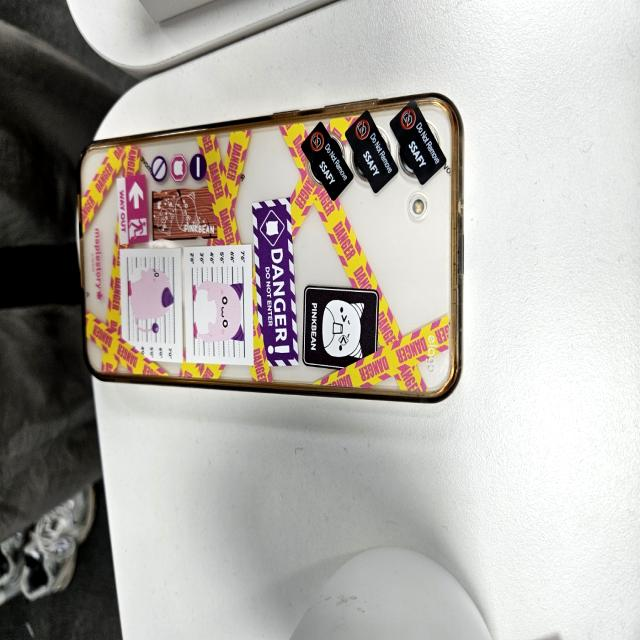phone: (74, 92, 464, 404)
sticker: (392, 99, 447, 184), (346, 111, 396, 192), (303, 123, 351, 199)
